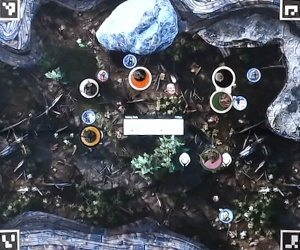black: (212, 67, 235, 90)
green: (209, 90, 232, 113)
orange: (127, 67, 150, 90)
pink_green: (199, 150, 222, 173)
white: (75, 77, 98, 100)
yellow_night_blue: (82, 125, 105, 148)
